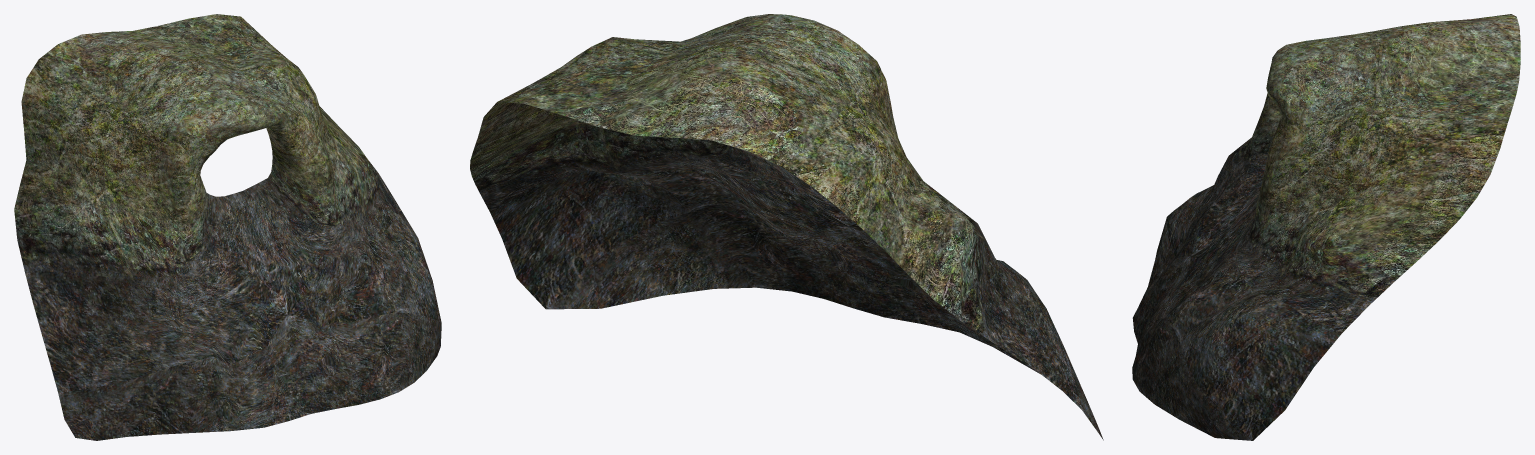
File: thm_all_cave_s03_damprock_r0_mesh_l0.fbx
3 views of the same model, side by side, from view 1: azimuth 30°, elevation 25°; view 2: azimuth 150°, elevation 25°; view 3: azimuth 270°, elevation 25° (orthographic). The views are drawn at different scales.
Parts seen in each view (by area): view 1: mesh_node; view 2: mesh_node; view 3: mesh_node.
Boxes of the visible parts, x1=… form: mesh_node: x1=14, y1=14, x2=441, y2=440; mesh_node: x1=470, y1=14, x2=1103, y2=440; mesh_node: x1=1132, y1=14, x2=1520, y2=440.
Bounding box in the file's own units: 48.97 × 34.28 × 39.36.
